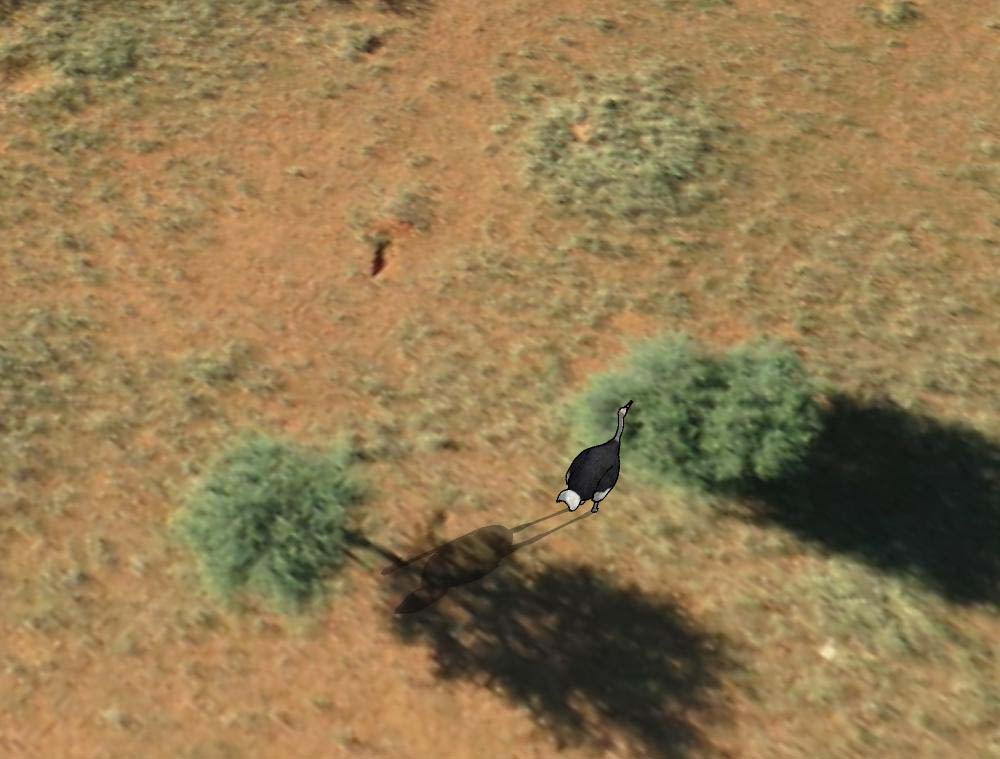springbok: (553, 396, 642, 520)
